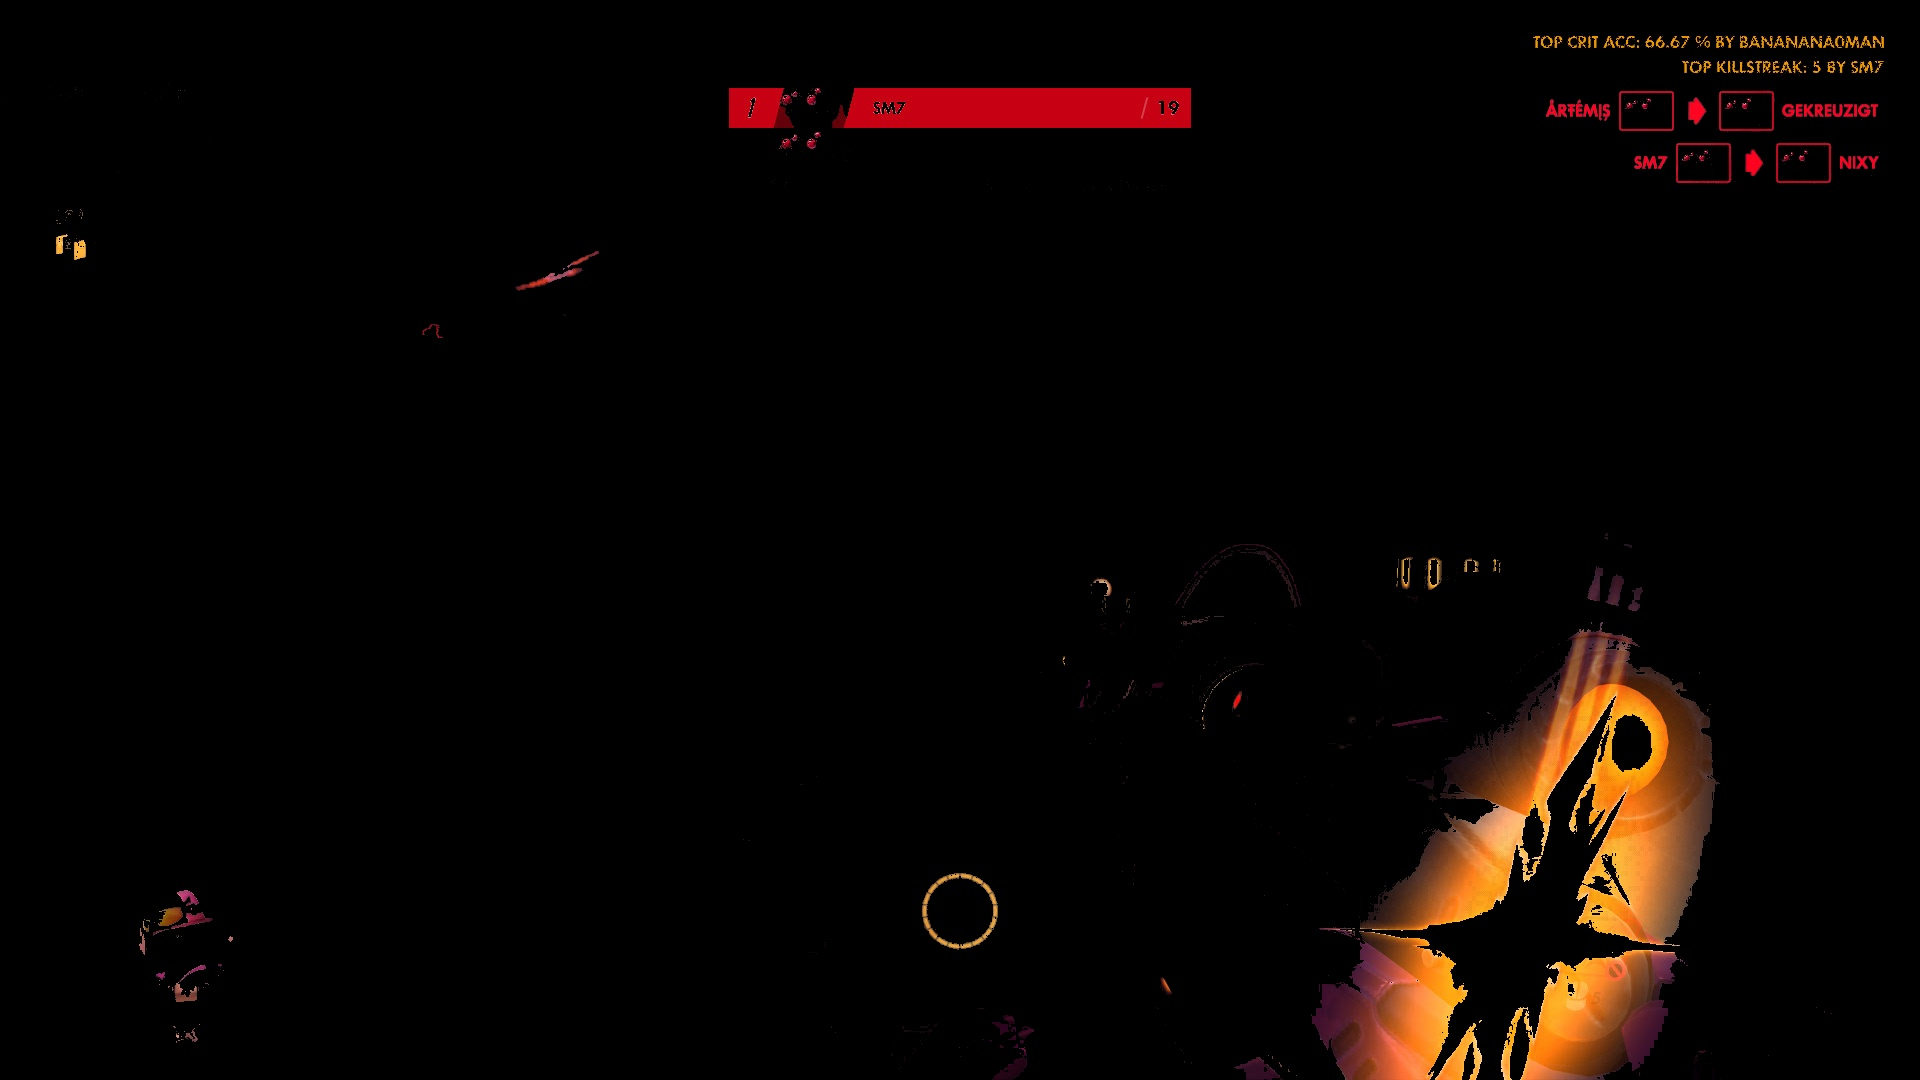widowmaker: (419, 322, 444, 342)
